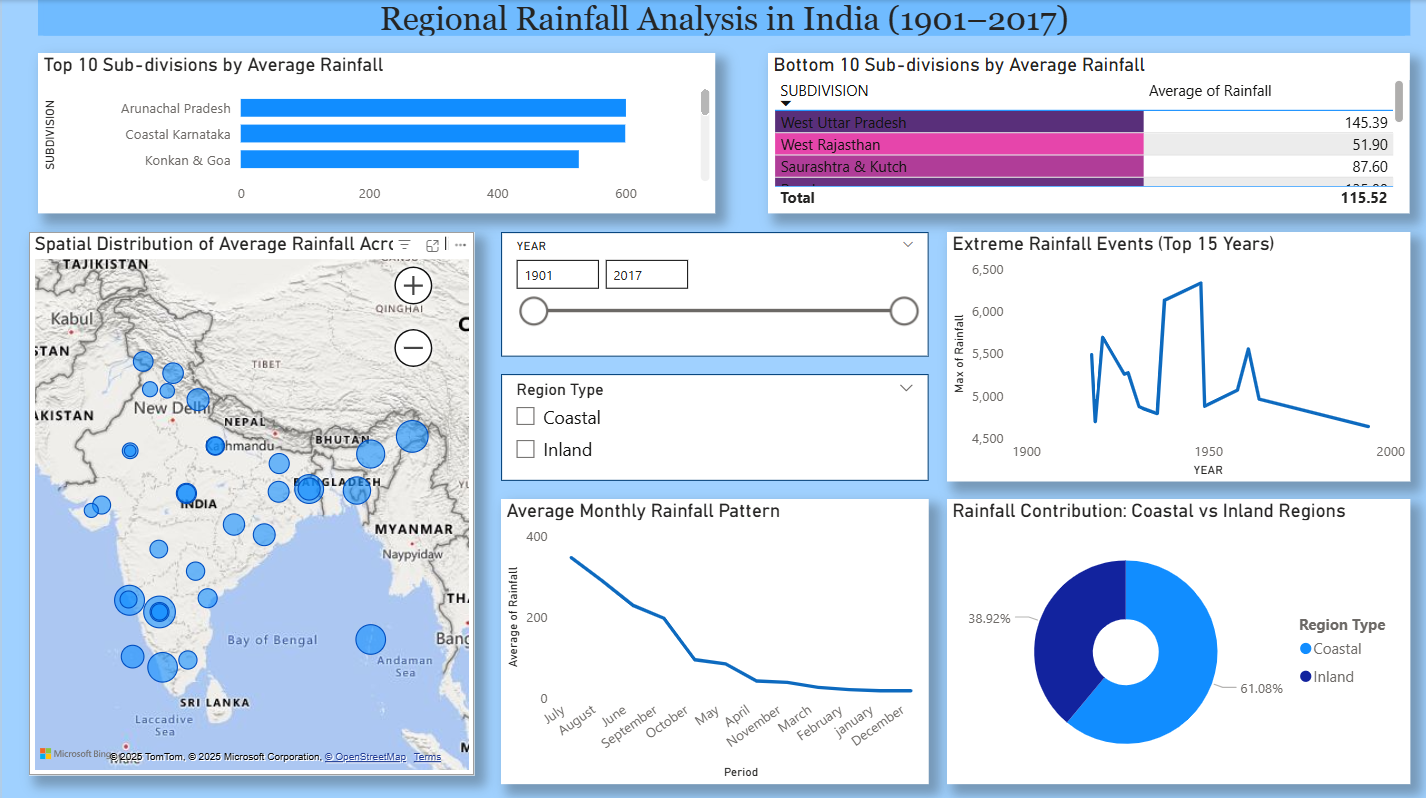

What the dashboard file says about the page in this screenshot:
{"tool":"powerbi","page":{"name":"Regional Analysis","canvas":[1280,720],"ordinal":1},"visuals":[{"type":"clusteredBarChart","title":"Top 10 Sub-divisions by Average Rainfall","fields":{"Category":["Dim_Subdivision.SUBDIVISION"],"Y":["Avg(Fact_Rainfall.Rainfall)"]},"box":[32,48,608,144],"z":0},{"type":"tableEx","title":"Bottom 10 Sub-divisions by Average Rainfall","fields":{"Values":["Dim_Subdivision.SUBDIVISION","Avg(Fact_Rainfall.Rainfall)"]},"box":[688,48,576,144],"z":1000},{"type":"lineChart","title":"Average Monthly Rainfall Pattern","fields":{"Category":["Fact_Rainfall.Period"],"Y":["Avg(Fact_Rainfall.Rainfall)"]},"box":[448,448,384,256],"z":2000},{"type":"lineChart","title":"Extreme Rainfall Events (Top 15 Years)","fields":{"Category":["Dim_Year.YEAR"],"Y":["Max(Fact_Rainfall.Rainfall)"]},"box":[848,208,416,224],"z":3000},{"type":"donutChart","title":"Rainfall Contribution: Coastal vs Inland Regions","fields":{"Category":["Fact_Rainfall.Region Type"],"Y":["Avg(Fact_Rainfall.Rainfall)"]},"box":[848,448,416,256],"z":4000},{"type":"slicer","fields":{"Values":["Dim_Year.YEAR"]},"box":[448,208,384,112],"z":5000},{"type":"slicer","fields":{"Values":["Fact_Rainfall.Region Type"]},"box":[448,336,384,96],"z":6000},{"type":"map","title":"Spatial Distribution of Average Rainfall Across India","fields":{"Category":["Fact_Rainfall.SUBDIVISION"],"Size":["Avg(Fact_Rainfall.Rainfall)"]},"box":[24,208,400,488],"z":7000},{"type":"textbox","title":"Regional Rainfall Analysis in India (1901–2017)","box":[32,0,1232,32],"z":8000}]}

Visuals, with their boxes in screenshot pixels (x1, y1, x2, y2), scaled from the page's 1280x720 canvas onto the 1426x798 screenshot:
"Top 10 Sub-divisions by Average Rainfall" clusteredBarChart: locate(36, 53, 713, 213)
"Bottom 10 Sub-divisions by Average Rainfall" tableEx: locate(766, 53, 1408, 213)
"Average Monthly Rainfall Pattern" lineChart: locate(499, 497, 927, 780)
"Extreme Rainfall Events (Top 15 Years)" lineChart: locate(945, 231, 1408, 479)
"Rainfall Contribution: Coastal vs Inland Regions" donutChart: locate(945, 497, 1408, 780)
slicer - Dim_Year.YEAR: locate(499, 231, 927, 355)
slicer - Fact_Rainfall.Region Type: locate(499, 372, 927, 479)
"Spatial Distribution of Average Rainfall Across India" map: locate(27, 231, 472, 771)
"Regional Rainfall Analysis in India (1901–2017)" textbox: locate(36, 0, 1408, 35)
